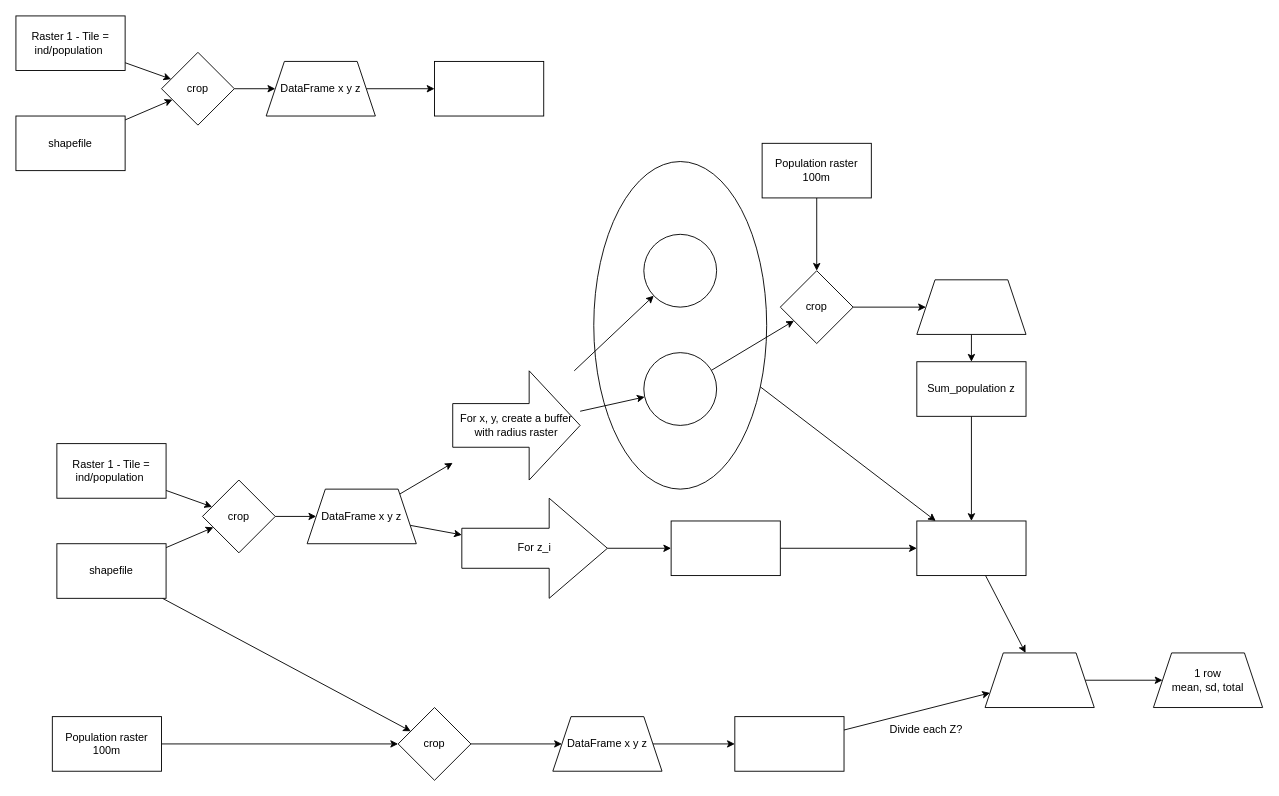
Some shapes in this 1279 by 796 pixel diagram are drawn without their labels. Each missing label, with the centre of its shape:
Dataframe, with real_ind: point (1039, 680)
DataFrame_i x y z population: point (971, 306)
Mean, sd, sum: point (489, 88)
real_ind_z_i = sum_population / z: point (971, 548)
Shapefile_i Coords_i: point (680, 388)
Shapefile_n Coords_n: point (680, 270)
sum total population in shapefile: point (789, 743)
z = ind / sum_population: point (725, 548)
